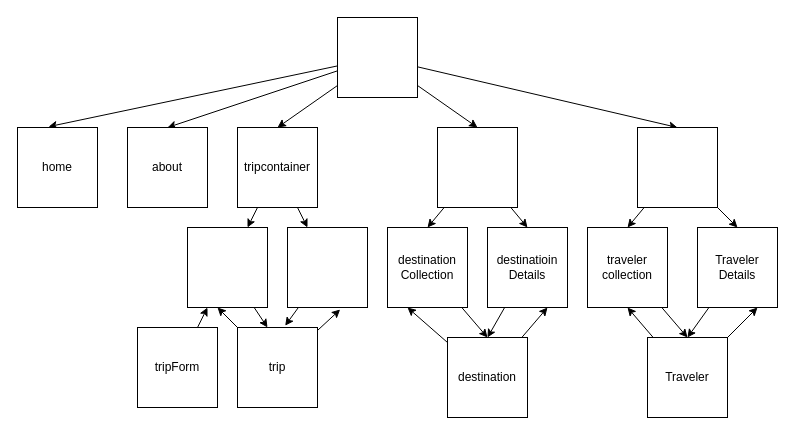
This 795x435 diagram has some shape labels left out. The shapes that lost their labels are listed below. From the top down, each one's centre as x and y in pixels, then its label:
At (377,57): "App.js".
At (477,167): "destinationContainer".
At (677,167): "travelersContainer".
At (227,267): "tripcollection".
At (327,267): "tripdetails".
